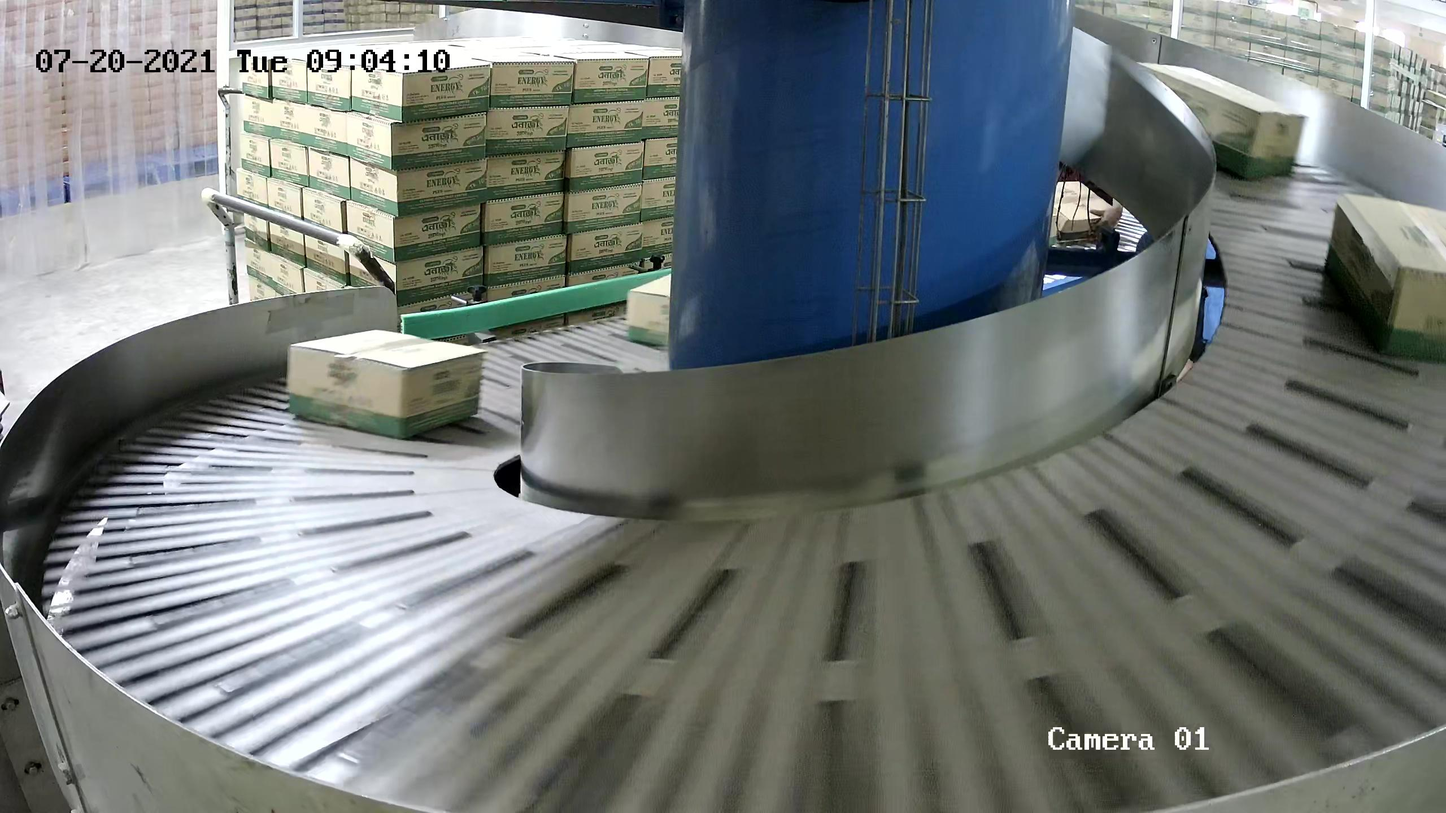Box: (1120, 60, 1312, 181), (285, 327, 486, 442), (1320, 190, 1446, 368)
